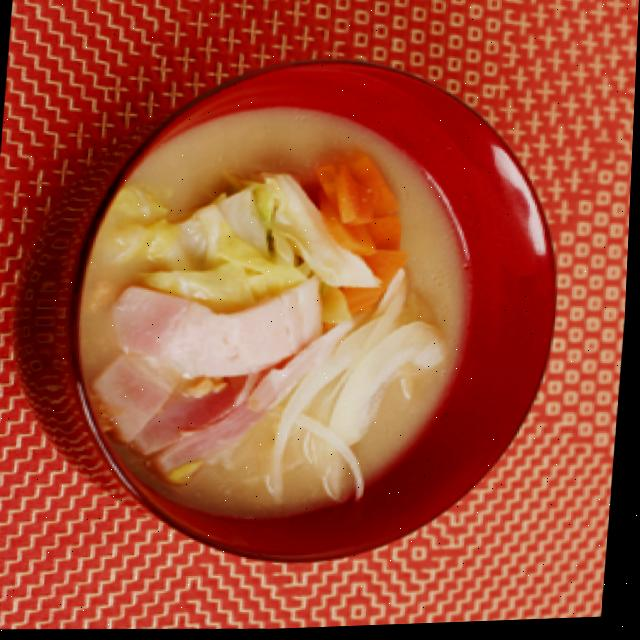汤锅炖物: (3, 47, 580, 586)
